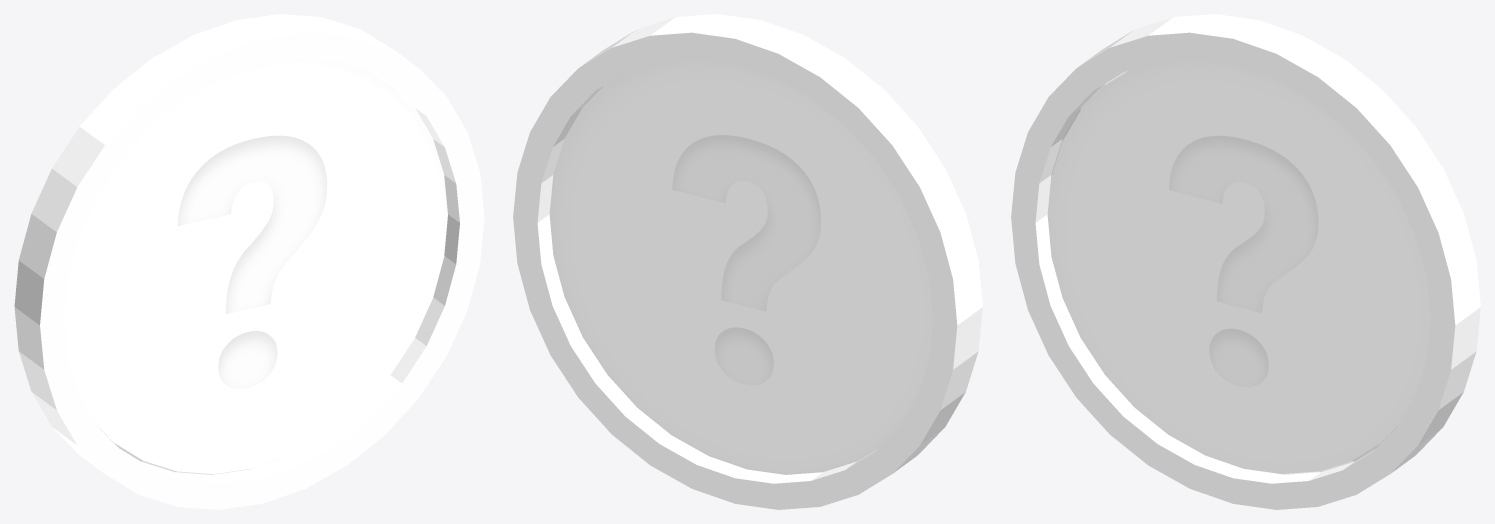
The model's file is cadre.glb.
3 views of the same model, side by side, from view 1: azimuth 30°, elevation 25°; view 2: azimuth 150°, elevation 25°; view 3: azimuth 330°, elevation 25° (orthographic).
Parts seen in each view (by area): view 1: cadre.004; view 2: cadre.004; view 3: cadre.004.
Part boxes in pixels (x1,y1,x2,y2): cadre.004: [14, 14, 484, 509]; cadre.004: [513, 14, 982, 509]; cadre.004: [1011, 14, 1480, 509].
Bounding box in the file's own units: 4 × 4 × 0.4.
2 materials, 1 textured.
